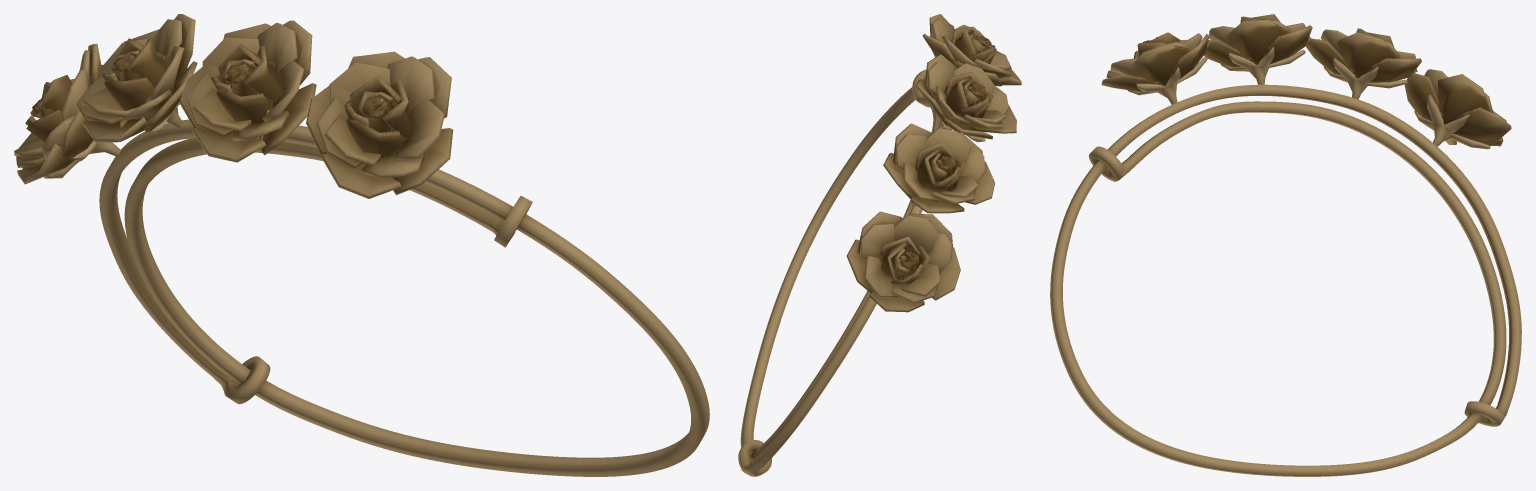
The picture shows the model from 3 angles, left to right: view 1: azimuth 30°, elevation 25°; view 2: azimuth 150°, elevation 25°; view 3: azimuth 270°, elevation 25°; orthographic projection. The views are drawn at different scales.
Visible parts, largest first — view 1: Bangle Bracelet; view 2: Bangle Bracelet; view 3: Bangle Bracelet.
Part boxes in pixels (box(x1,y1,x2,y2)): Bangle Bracelet: box(14, 14, 709, 476); Bangle Bracelet: box(738, 14, 1021, 476); Bangle Bracelet: box(1050, 14, 1521, 476).
Bounding box in the file's own units: 0.0539 × 0.0612 × 0.0678.
1 material, 1 textured.
